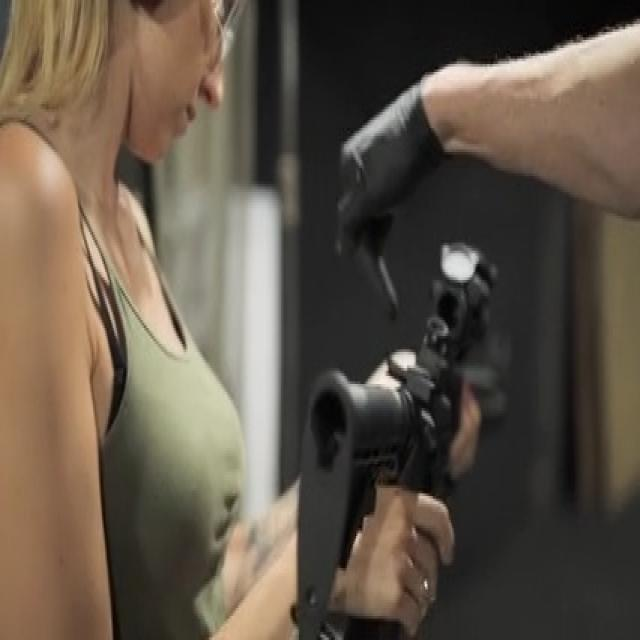Gun_Holder: (251, 210, 609, 640)
Person: (1, 0, 462, 640)
